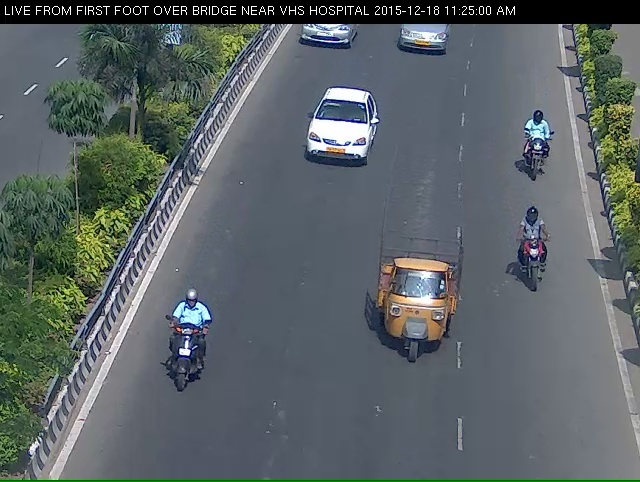Auto: (362, 228, 475, 384)
Car: (295, 94, 377, 186), (290, 24, 359, 62), (395, 24, 455, 67)
Person: (151, 307, 206, 428), (518, 225, 566, 306), (521, 119, 565, 198)
